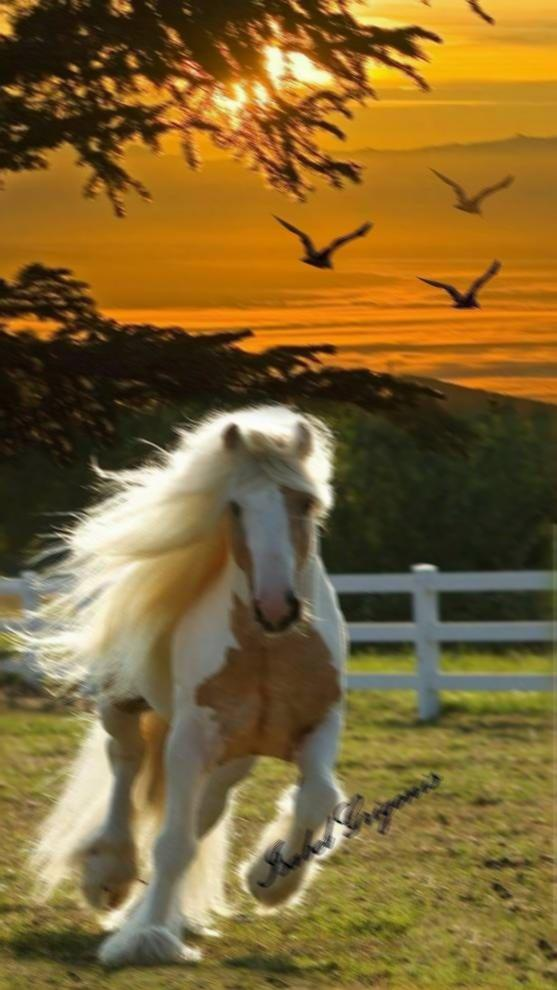horse: (7, 400, 350, 968)
